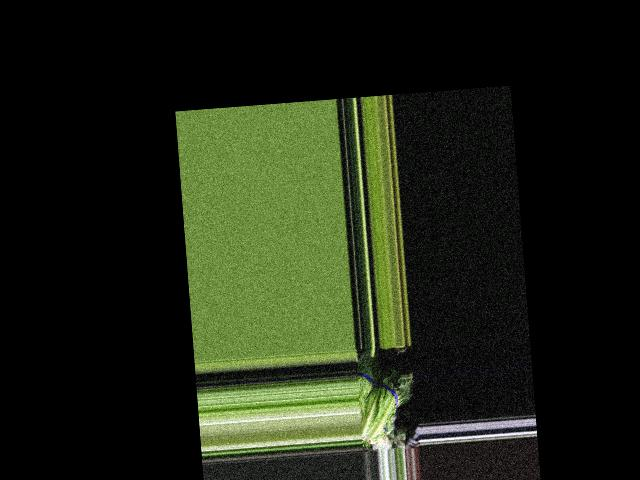lettuce: (356, 369, 413, 437)
